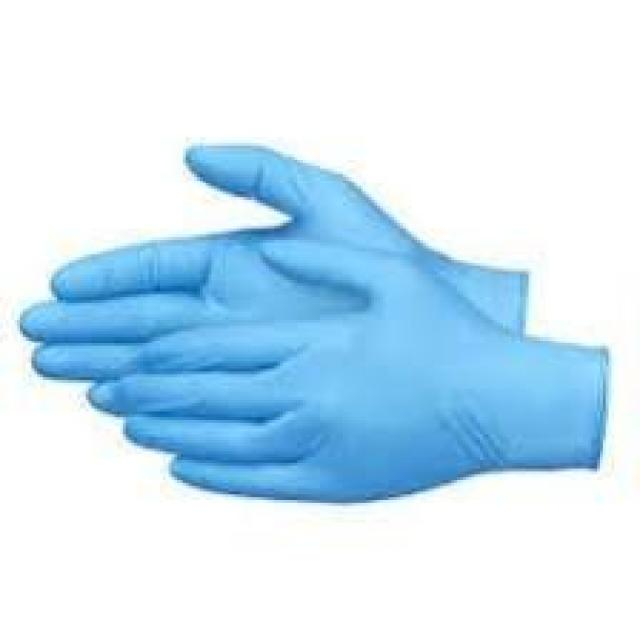Glove: (47, 162, 609, 562)
